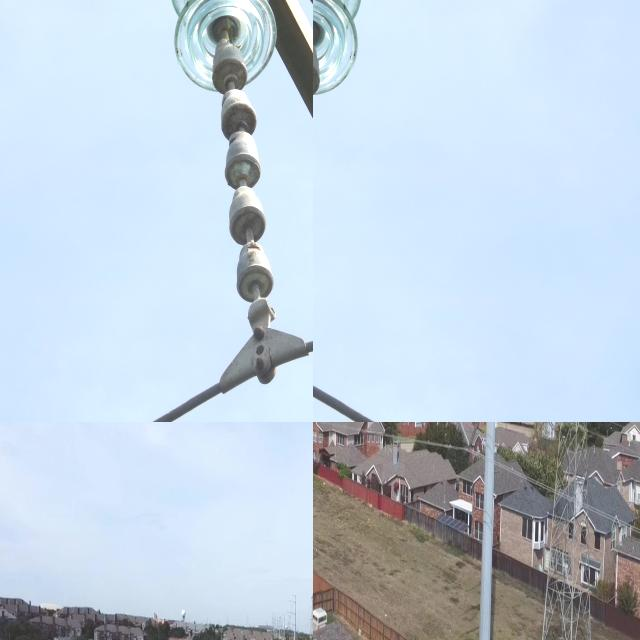杆塔: (534, 422, 603, 640), (306, 589, 313, 640)
正常绝缘子: (167, 0, 311, 398), (313, 0, 366, 394), (461, 422, 484, 461), (455, 422, 473, 453)
绝缘子破损: (223, 142, 262, 200), (228, 203, 268, 256), (210, 57, 250, 100), (220, 101, 259, 143), (313, 59, 321, 105)
